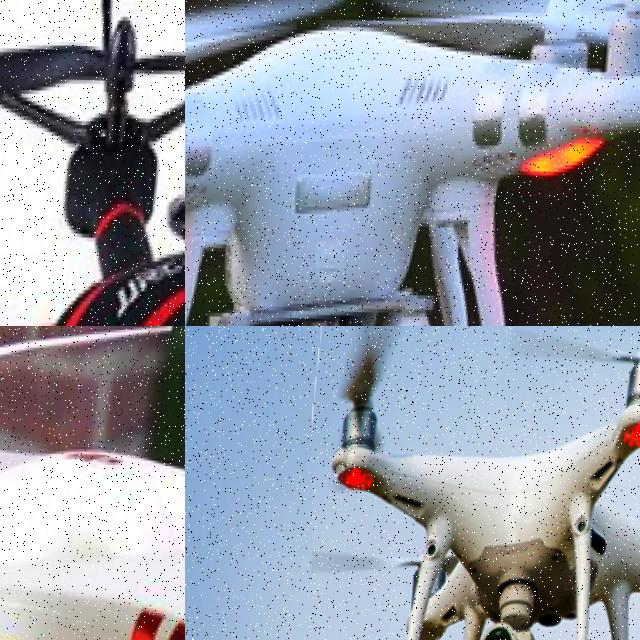0: (185, 0, 640, 326), (312, 326, 640, 640), (0, 326, 185, 640)
drone: (0, 0, 185, 326)
